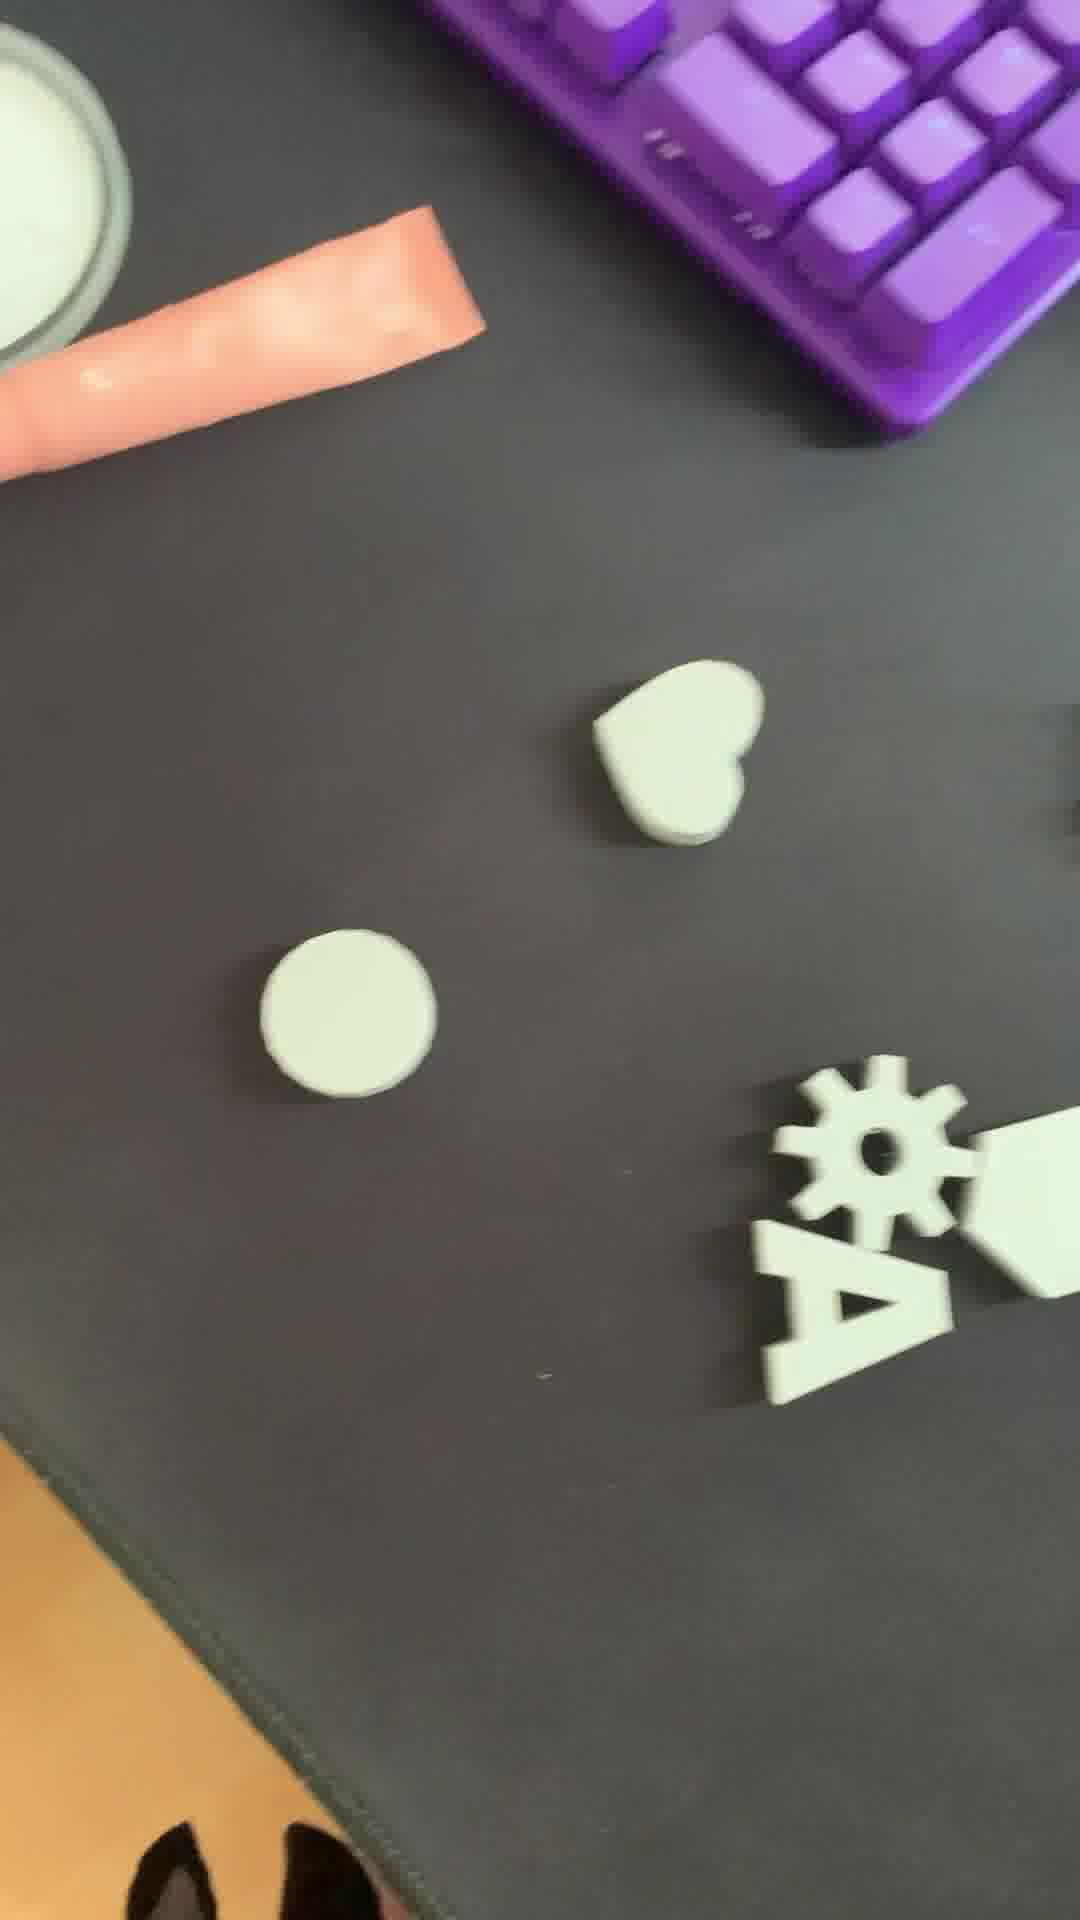Gray A-letter: (731, 1208, 964, 1408)
Gray circle: (239, 924, 448, 1112)
Gray gear: (777, 1048, 971, 1253)
Gray heart: (582, 647, 771, 848)
Gray hexagon: (960, 1101, 1080, 1302)
